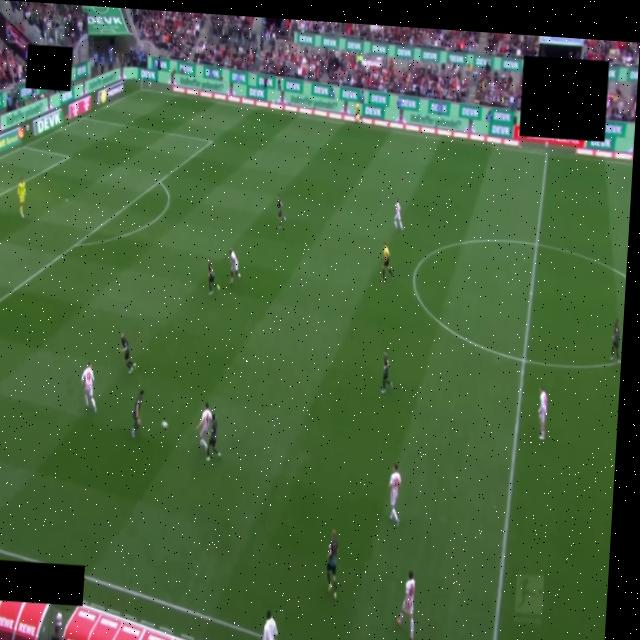ball: (161, 421, 168, 429)
player: (397, 571, 414, 639), (327, 530, 338, 598), (196, 402, 211, 451), (389, 464, 401, 525), (82, 362, 96, 412), (120, 331, 136, 373), (207, 414, 220, 461), (381, 350, 393, 394), (132, 390, 143, 438), (539, 387, 548, 440), (208, 258, 219, 294), (229, 249, 240, 283), (17, 178, 26, 217), (611, 320, 619, 362), (394, 200, 403, 231), (277, 196, 285, 229)
referee: (382, 243, 393, 280)
